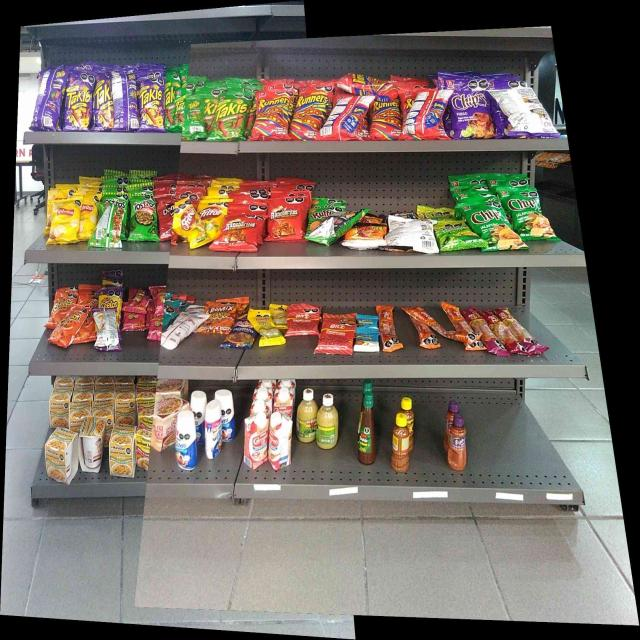bitzAlmendras: (356, 327, 379, 351)
bitzEnchilado90: (321, 316, 353, 355), (288, 306, 318, 335)
bitzEnchilado95: (382, 304, 398, 353), (443, 303, 463, 330), (417, 329, 438, 350)
bitzHabanero: (481, 312, 546, 356)
bokadosCacahuates: (234, 319, 253, 347)
botaneraChilito: (392, 414, 410, 470)
cheetosFlaminHot: (98, 287, 121, 309)
cheetosOriginal: (52, 316, 88, 347), (52, 290, 76, 313)
chipsFuego: (447, 79, 494, 141)
chipsJalapeno: (511, 190, 547, 249), (477, 198, 509, 250)
chipsPapatinas: (440, 220, 474, 250)
churrumais: (124, 312, 146, 333), (148, 314, 162, 339)
delPrimoSalsa: (317, 394, 338, 450), (297, 392, 315, 442)
doritosNacho: (158, 198, 172, 239)
fritosLimon: (197, 201, 221, 250), (174, 203, 195, 245)
hotNutsOriginal: (345, 225, 386, 247)
leoMix: (202, 302, 233, 332)
maruchanPollo: (44, 428, 78, 481), (79, 418, 104, 472), (110, 423, 134, 478)
maruchanRes: (135, 421, 150, 467)
nestleCarnation: (244, 414, 267, 466), (270, 414, 291, 466)
nestleLechera: (175, 414, 197, 471), (206, 403, 220, 456), (222, 391, 234, 442)
nissinRes: (153, 407, 172, 449)
productoAtras: (497, 90, 547, 138), (402, 90, 446, 139), (389, 217, 438, 254), (328, 102, 372, 140), (38, 75, 62, 130), (115, 75, 137, 127), (90, 312, 118, 350), (165, 311, 195, 342), (100, 213, 125, 248), (186, 98, 204, 140), (308, 228, 343, 245)
rancheritos: (267, 198, 306, 240), (223, 216, 258, 253)
rufflesQueso: (308, 207, 330, 225)
runners: (252, 92, 290, 140), (292, 89, 325, 137), (342, 73, 398, 99), (374, 101, 400, 141)
sabritasOriginal: (50, 200, 79, 242), (81, 196, 98, 230)
salsaBufalo: (360, 394, 374, 464)
semillasCalabaza: (254, 309, 279, 345)
tajinDulce: (450, 418, 466, 470)
takisFuego: (206, 92, 248, 138), (64, 76, 93, 131), (139, 80, 164, 130), (95, 74, 113, 128), (166, 77, 184, 131)
tostitos: (128, 196, 156, 240), (102, 192, 127, 211)
